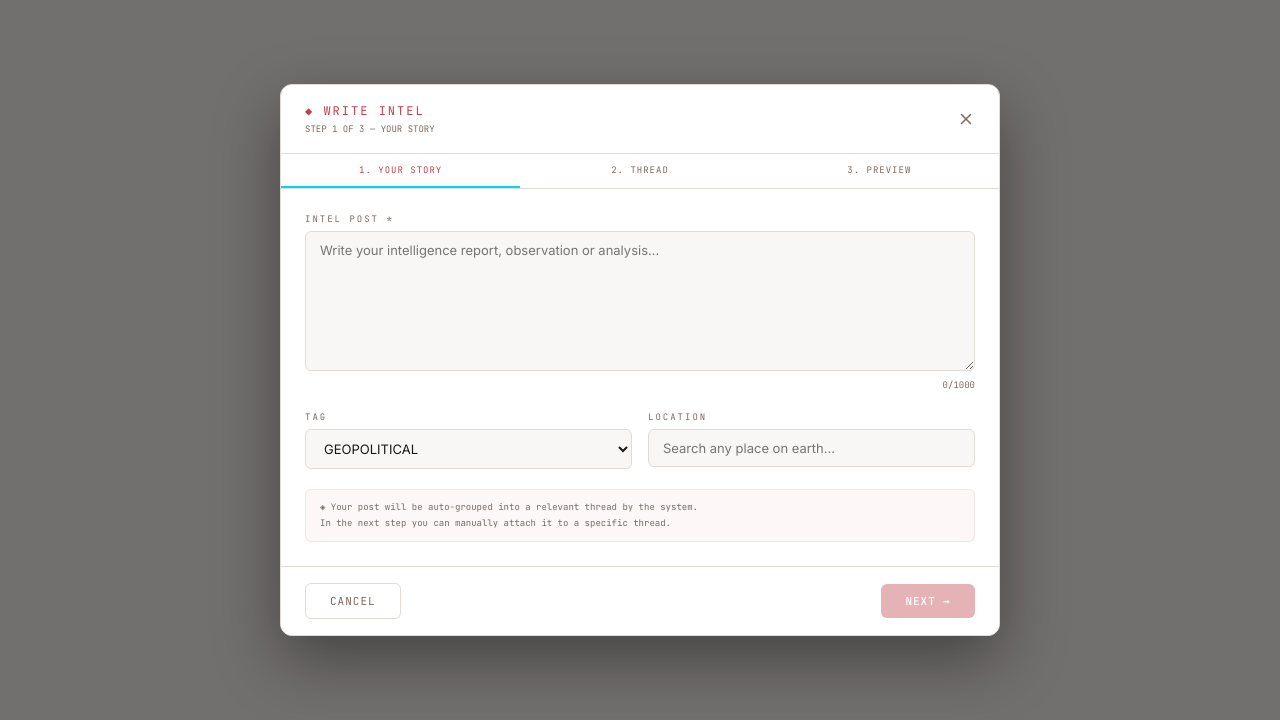
Test: StoryComposer › advances to step 2 when body has content
The width and height of the screenshot is (1280, 720).
Step 1. Type "Indian vessels spotted near Thailand" into the text box with placeholder "Write your intelligence report, observation or analysis..." → x=640, y=301, box [305,231,975,371]
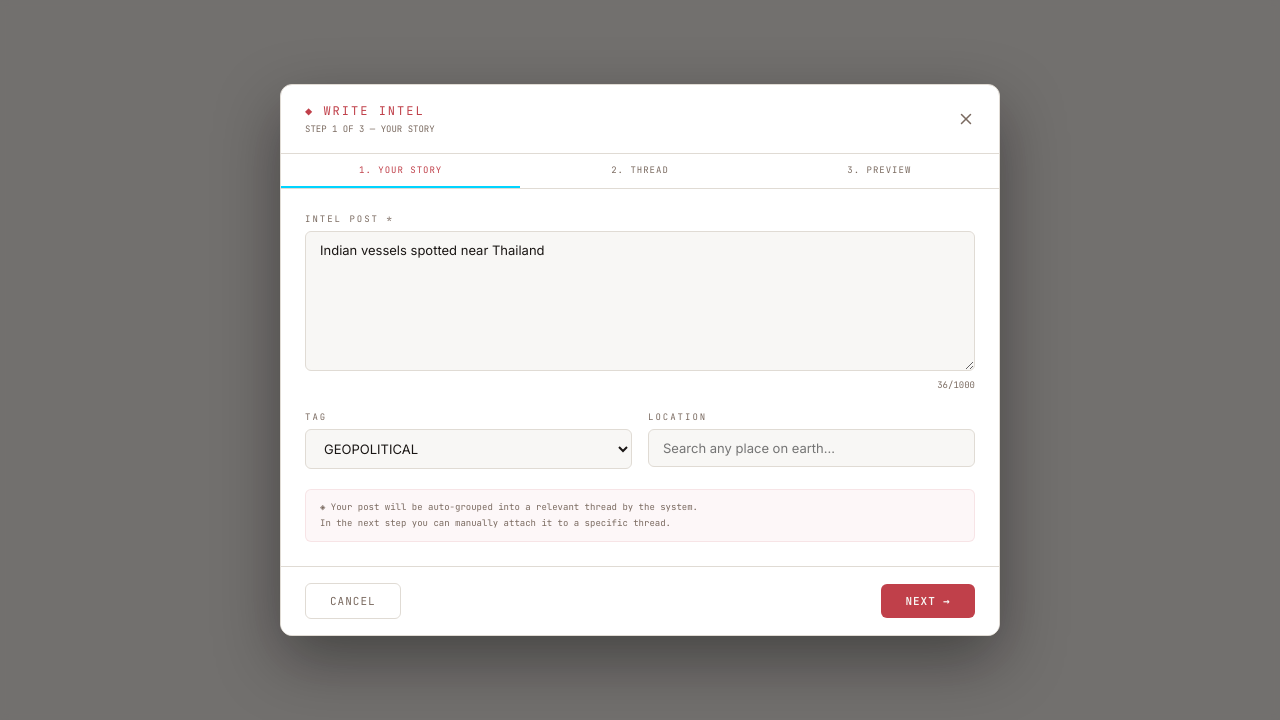
Step 2. Click the button "NEXT →" → x=928, y=601, box [881,584,975,618]
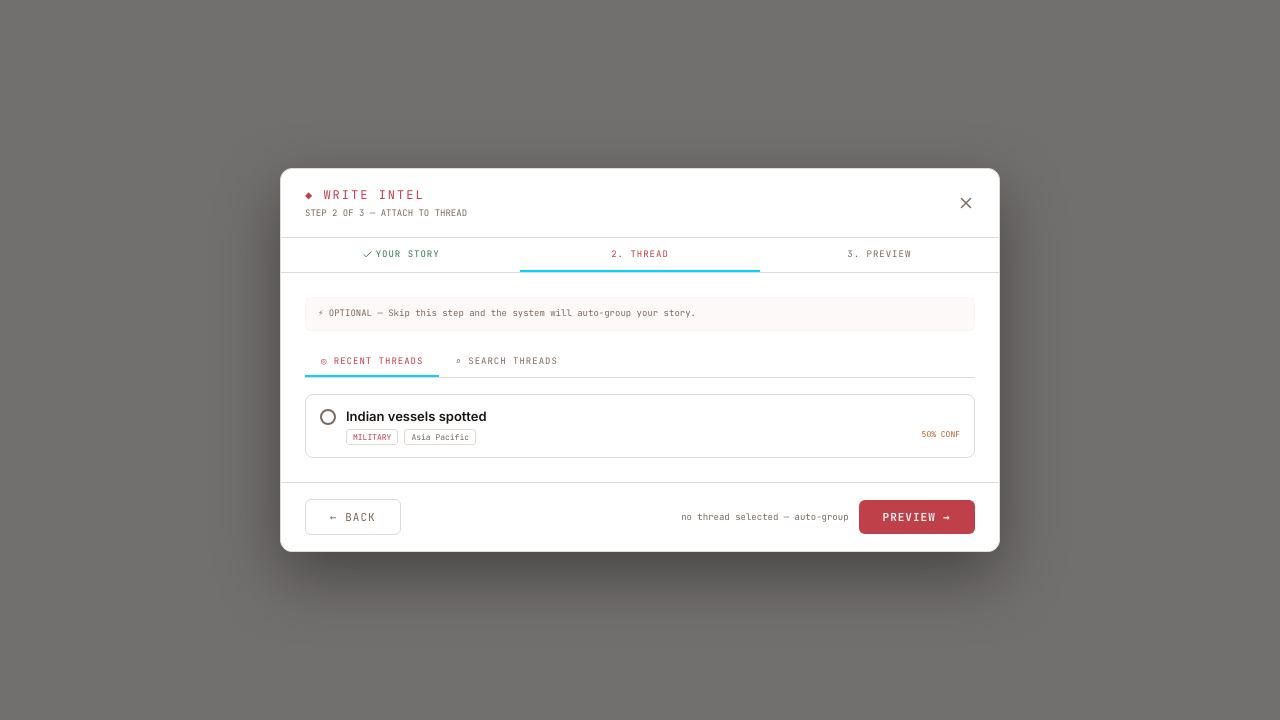
Now the text "STEP 2 OF 3 — ATTACH TO THREAD" is shown, box [305,207,467,219]
